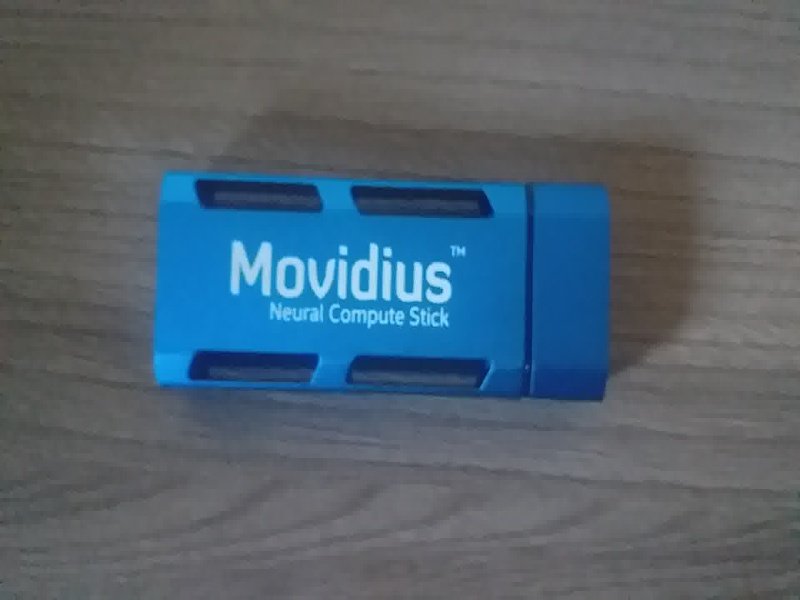movidius: (147, 159, 617, 415)
